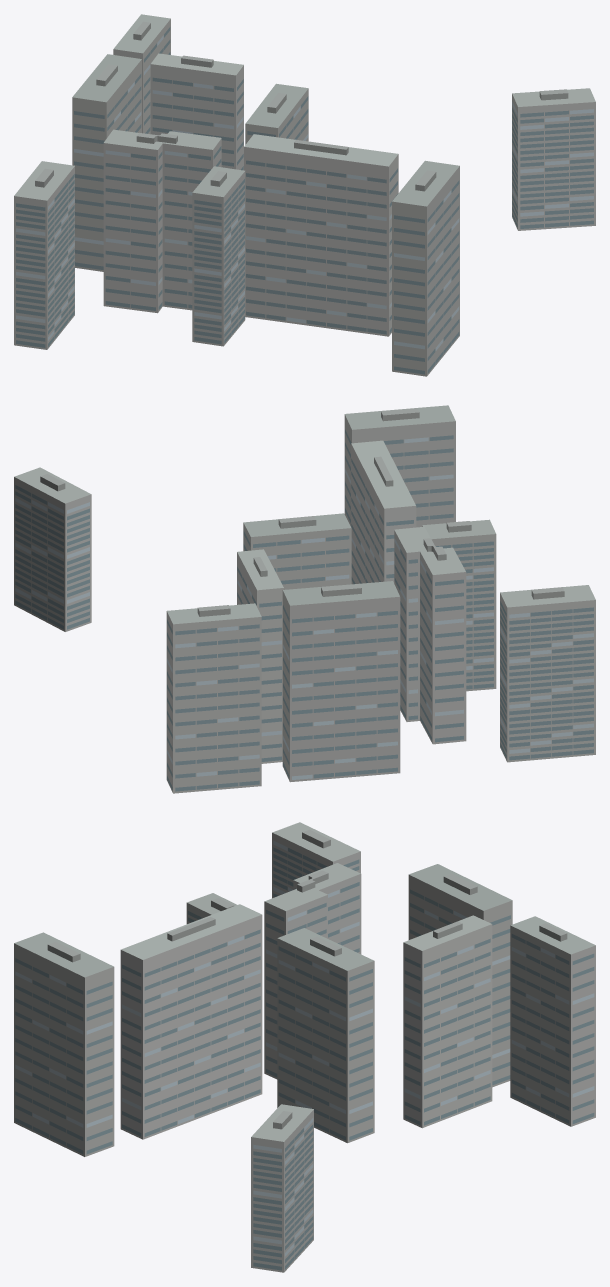
Rendered from apt-a15288810.glb.
3 renders of one model, top to bottom at view 1: azimuth 30°, elevation 25°; view 2: azimuth 150°, elevation 25°; view 3: azimuth 270°, elevation 25°, orthographic. The views are drawn at different scales.
Visible parts, largest first — view 1: apt-a15288810; view 2: apt-a15288810; view 3: apt-a15288810.
Part boxes in pixels (x1,y1,x2,y2): apt-a15288810: (14, 14, 595, 376); apt-a15288810: (14, 405, 595, 793); apt-a15288810: (14, 822, 595, 1272).
Bounding box in the file's own units: 257 × 76 × 216.
